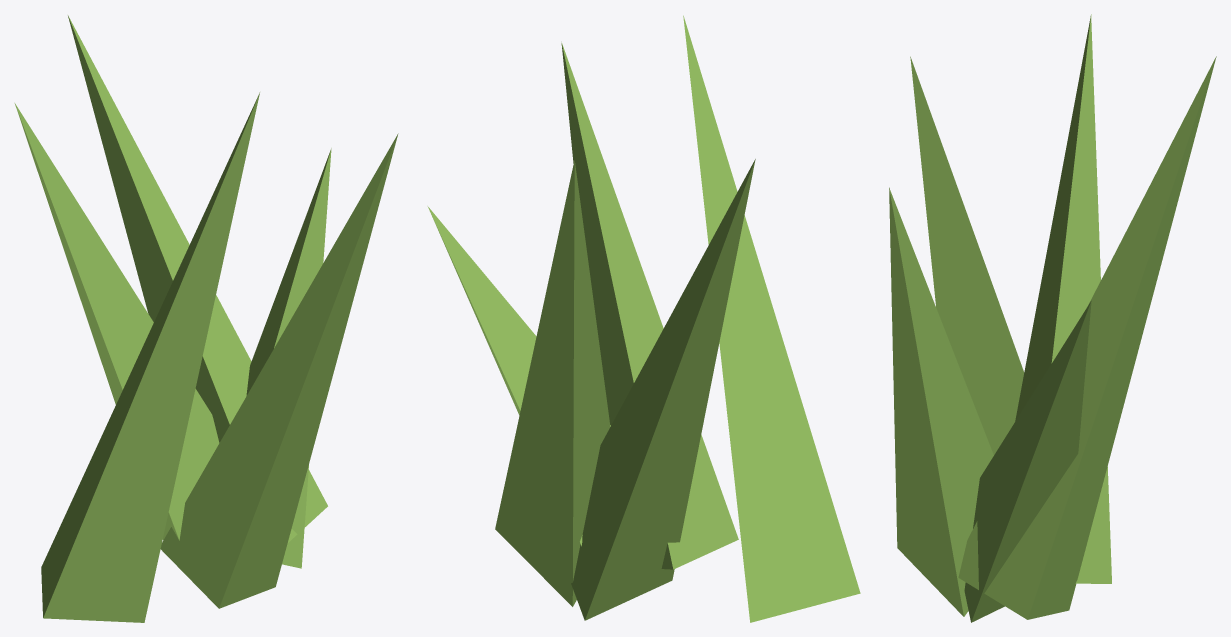
File: grass_tuft_b.glb
The picture shows the model from 3 angles, left to right: view 1: azimuth 30°, elevation 25°; view 2: azimuth 150°, elevation 25°; view 3: azimuth 270°, elevation 25°; orthographic projection. The views are drawn at different scales.
Visible parts, largest first — view 1: grass_tuft_b.001; view 2: grass_tuft_b.001; view 3: grass_tuft_b.001.
Part boxes in pixels (bbox=[...]): grass_tuft_b.001: bbox=[14, 15, 398, 622]; grass_tuft_b.001: bbox=[427, 15, 860, 622]; grass_tuft_b.001: bbox=[889, 14, 1216, 622].
Bounding box in the file's own units: 0.199 × 0.2836 × 0.1551.
1 material, 1 textured.
